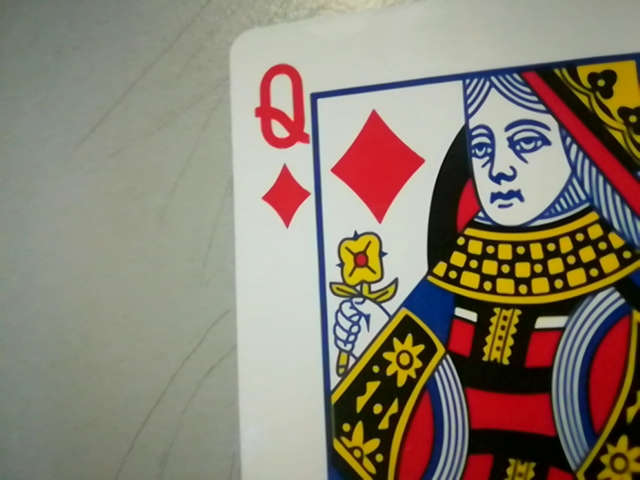fk q: (245, 55, 319, 229)
